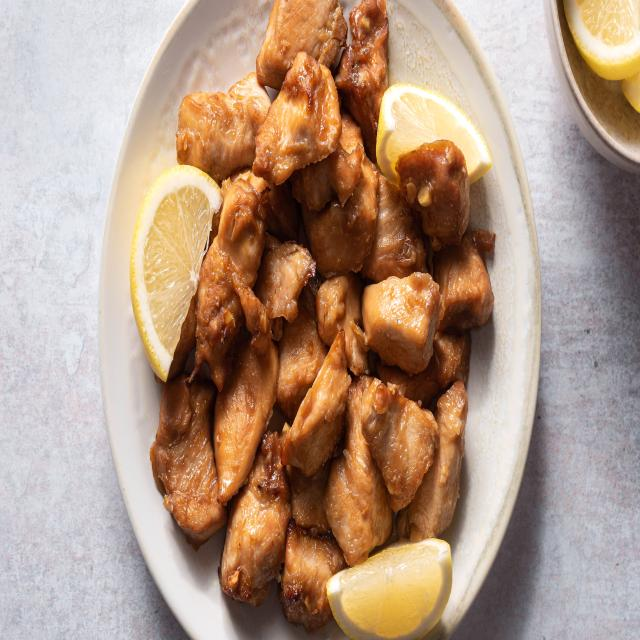Frango: (147, 0, 499, 635)
